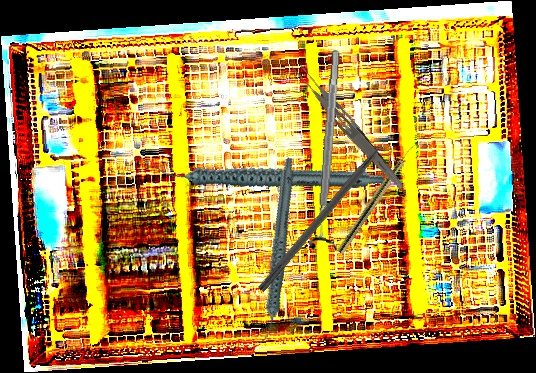Dressing Forceps: (287, 58, 411, 193)
Fixation Ring: (306, 48, 352, 253)
Handpiece: (150, 117, 386, 233), (222, 156, 330, 345), (336, 138, 420, 256)
Hook Surgical: (256, 123, 403, 294)
